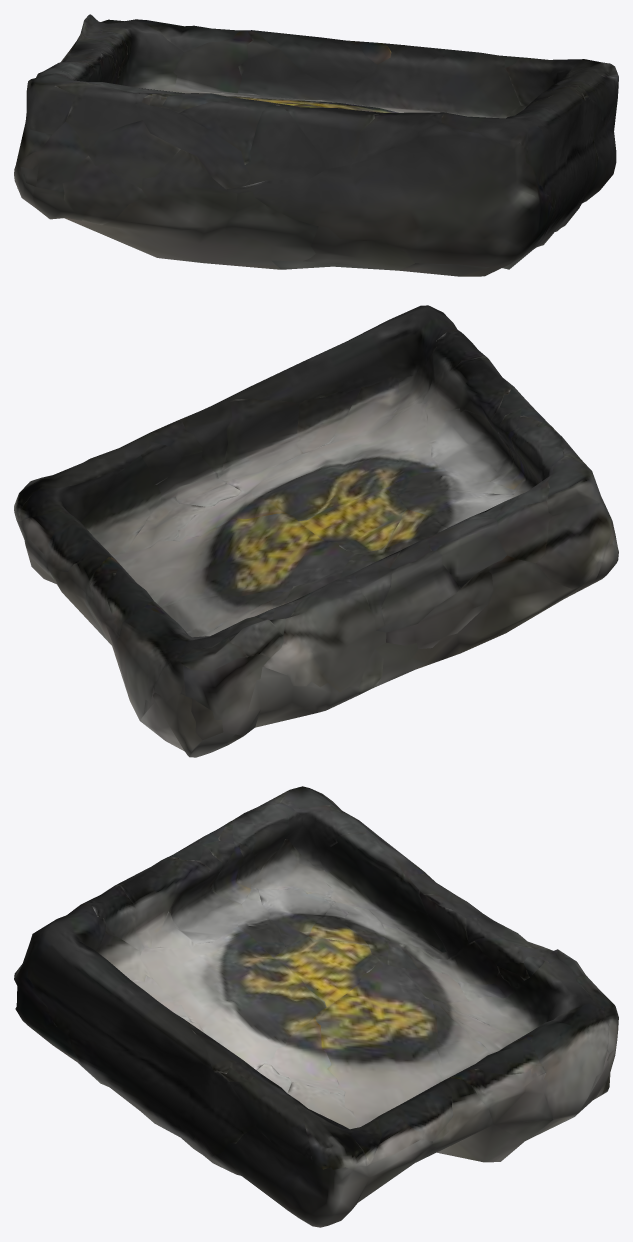
The model's file is hall.glb.
3 renders of one model, top to bottom at view 1: azimuth 30°, elevation 25°; view 2: azimuth 150°, elevation 25°; view 3: azimuth 270°, elevation 25°, orthographic. The views are drawn at different scales.
Size of the model in its own units: 0.8114 by 0.3544 by 0.8148.
Materials: 1 (1 with a texture image).
